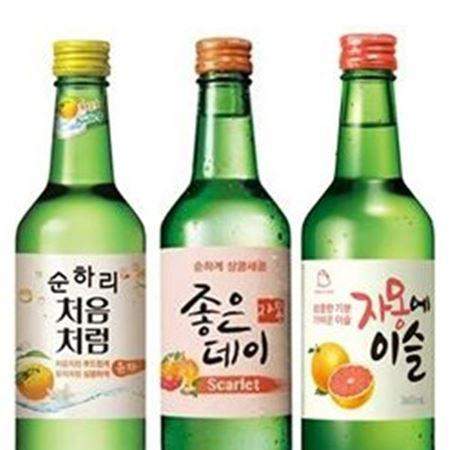soju: (11, 31, 439, 450)
